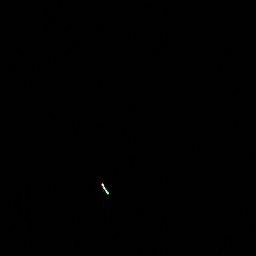ship: (99, 181, 112, 197)
